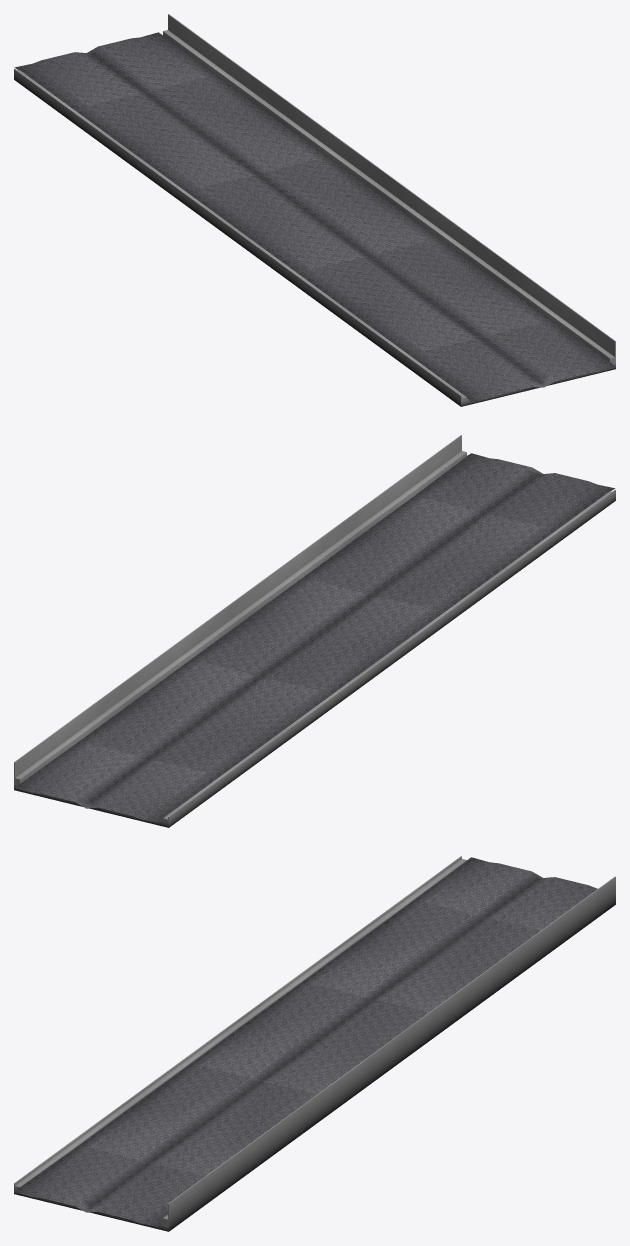
File: 2RAIL_KYO_KONKURIONLY.glb
The picture shows the model from 3 angles, top to bottom: view 1: azimuth 30°, elevation 25°; view 2: azimuth 150°, elevation 25°; view 3: azimuth 330°, elevation 25°; orthographic projection.
Visible parts, largest first — view 1: frame01; view 2: frame01; view 3: frame01.
Part boxes in pixels (bbox=[...]): frame01: bbox=[14, 14, 615, 406]; frame01: bbox=[14, 435, 615, 827]; frame01: bbox=[14, 856, 615, 1231].
Size of the model in its own units: 40 by 6.88 by 205.
2 materials, 2 textured.
